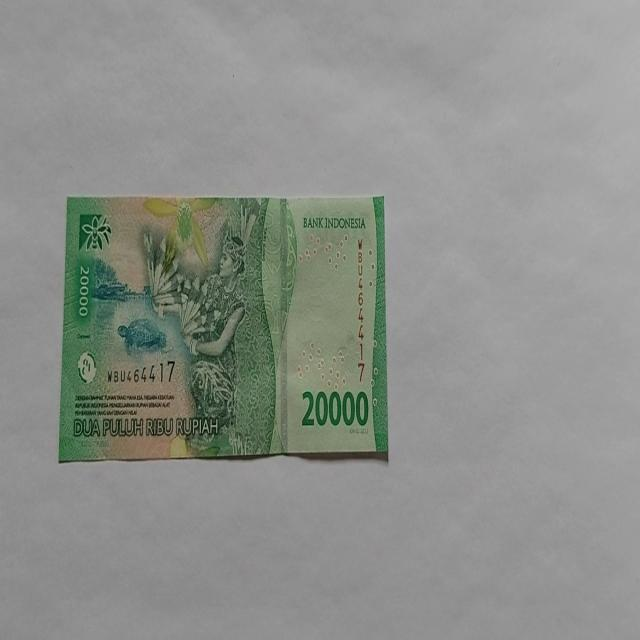dua puluh ribu rupiah: (59, 194, 388, 464)
